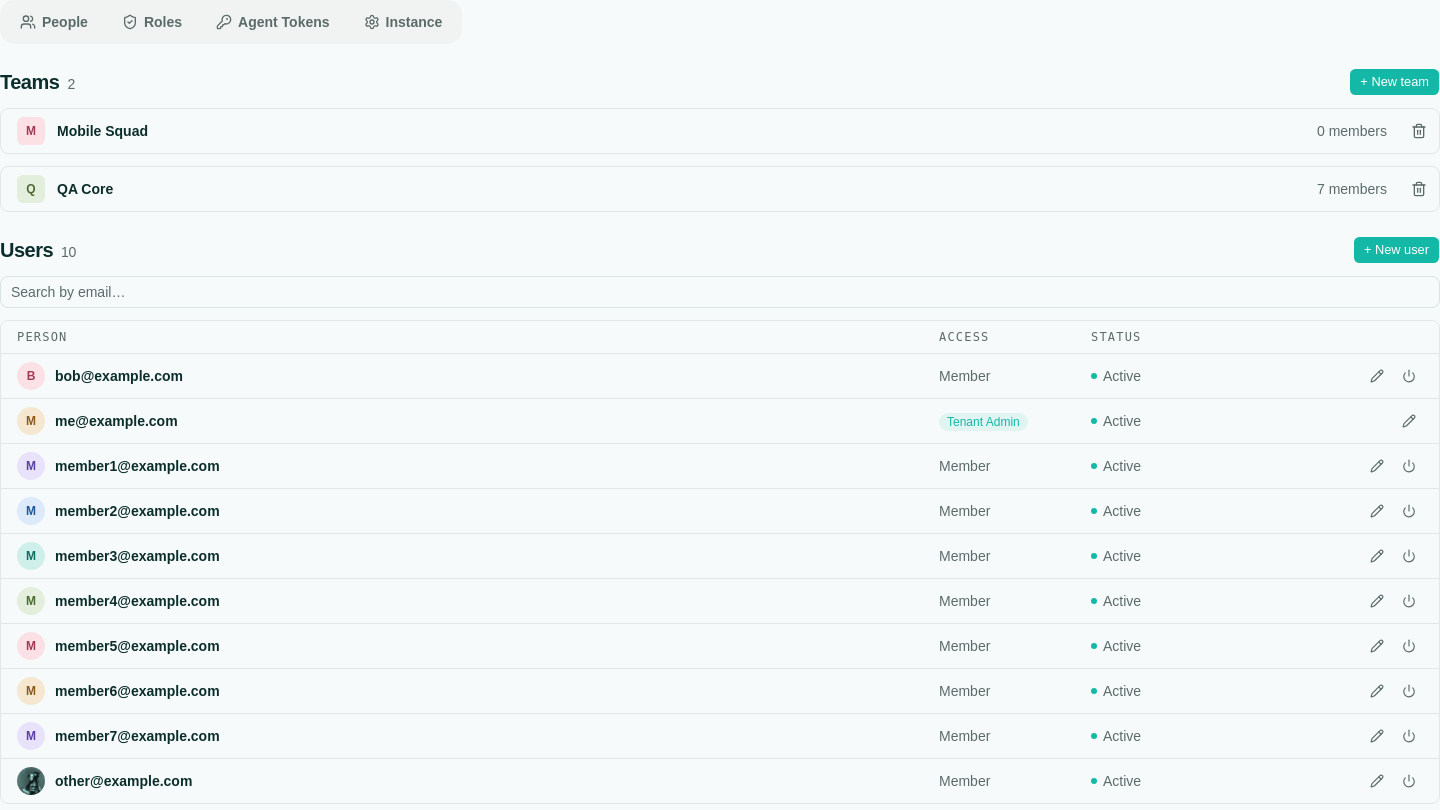
Test: PeoplePage › Users › edit (add-update-user) › opens a dialog pre-filled with the current email
Expected: the text "other@example.com" is shown, [55,771,192,791]
Click the button named "edit other@example.com". click: point(1377, 781)
box: [1363,767,1391,795]
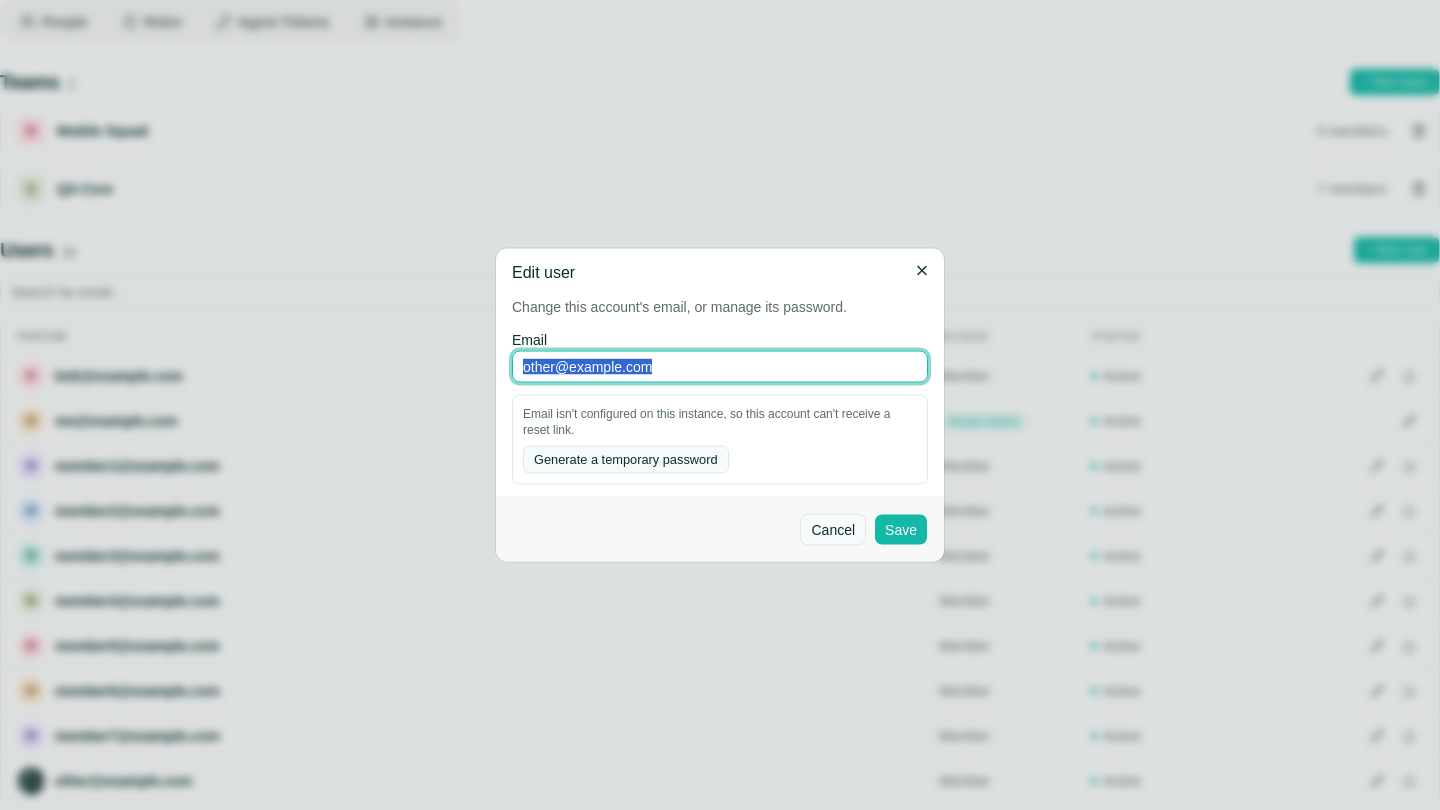
Expected: the field labelled "Email" holds "other@example.com", [512,350,928,382]
